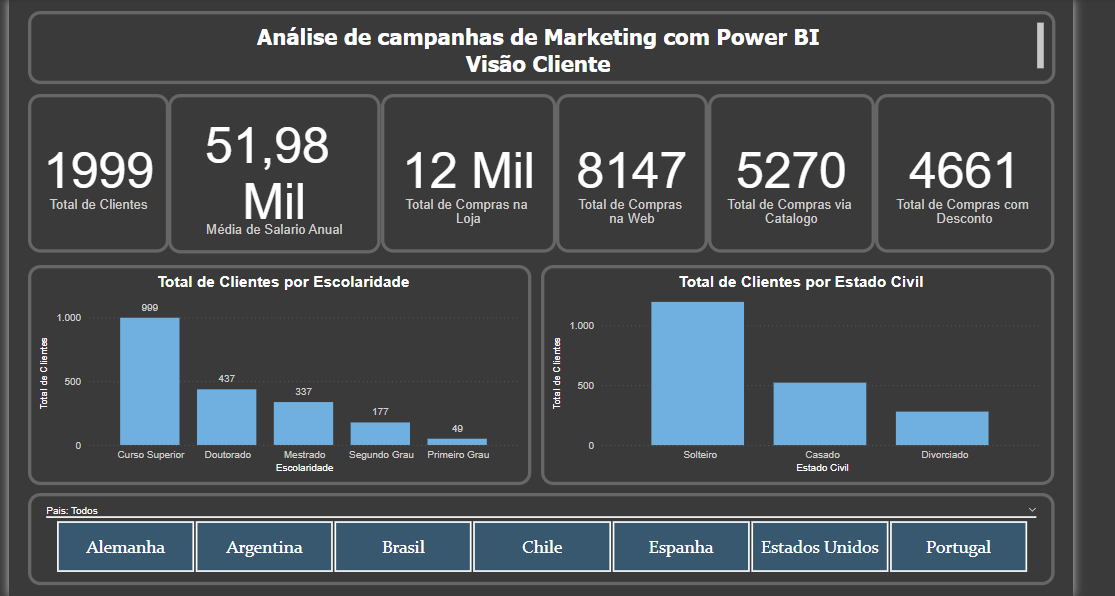

The dashboard page shown, as its layout file describes it:
{"tool":"powerbi","page":{"name":"Visao Cliente","canvas":[1280,720],"ordinal":0},"visuals":[{"type":"card","fields":{"Values":["CountNonNull(DadosMarketing.ID)"]},"box":[22.9,114.4,170,191.3],"z":0},{"type":"card","fields":{"Values":["Avg(DadosMarketing.Salario Anual)"]},"box":[191.8,114.3,256.2,191.8],"z":1000},{"type":"card","fields":{"Values":["Sum(DadosMarketing.Numero de Compras na Loja)"]},"box":[447.9,114.4,210.9,191.3],"z":2000},{"type":"card","fields":{"Values":["Sum(DadosMarketing.Numero de Compras na Web)"]},"box":[658.8,114.4,183.1,191.3],"z":3000},{"type":"card","fields":{"Values":["Sum(DadosMarketing.Numero de Compras com Desconto)"]},"box":[1043,114.4,215.8,191.3],"z":4000},{"type":"card","fields":{"Values":["Sum(DadosMarketing.Numero de Compras via Catalogo)"]},"box":[841.9,114.4,201.1,191.3],"z":5000},{"type":"textbox","box":[22.5,14.5,1236.6,88.4],"z":6000},{"type":"clusteredColumnChart","fields":{"Category":["DadosMarketing.Escolaridade"],"Y":["CountNonNull(DadosMarketing.ID)"]},"box":[22.9,320.4,606.5,264.8],"z":7000},{"type":"clusteredColumnChart","fields":{"Category":["DadosMarketing.Estado Civil"],"Y":["CountNonNull(DadosMarketing.ID)"]},"box":[640.8,320.4,617.9,264.8],"z":8000},{"type":"slicer","fields":{"Values":["DadosMarketing.Pais"]},"box":[22.9,595,1235.9,111.2],"z":9000}]}

Visuals, with their boxes on the page's 1280x720 design canvas (x1, y1, x2, y2). These are canvas units, not pixel positions in the 1115x596 screenshot, which may show the page scaled, cropped or inside an application window:
card - CountNonNull(DadosMarketing.ID): bbox=[23, 114, 193, 306]
card - Avg(DadosMarketing.Salario Anual): bbox=[192, 114, 448, 306]
card - Sum(DadosMarketing.Numero de Compras na Loja): bbox=[448, 114, 659, 306]
card - Sum(DadosMarketing.Numero de Compras na Web): bbox=[659, 114, 842, 306]
card - Sum(DadosMarketing.Numero de Compras com Desconto): bbox=[1043, 114, 1259, 306]
card - Sum(DadosMarketing.Numero de Compras via Catalogo): bbox=[842, 114, 1043, 306]
textbox: bbox=[22, 14, 1259, 103]
clusteredColumnChart - DadosMarketing.Escolaridade x CountNonNull(DadosMarketing.ID): bbox=[23, 320, 629, 585]
clusteredColumnChart - DadosMarketing.Estado Civil x CountNonNull(DadosMarketing.ID): bbox=[641, 320, 1259, 585]
slicer - DadosMarketing.Pais: bbox=[23, 595, 1259, 706]
